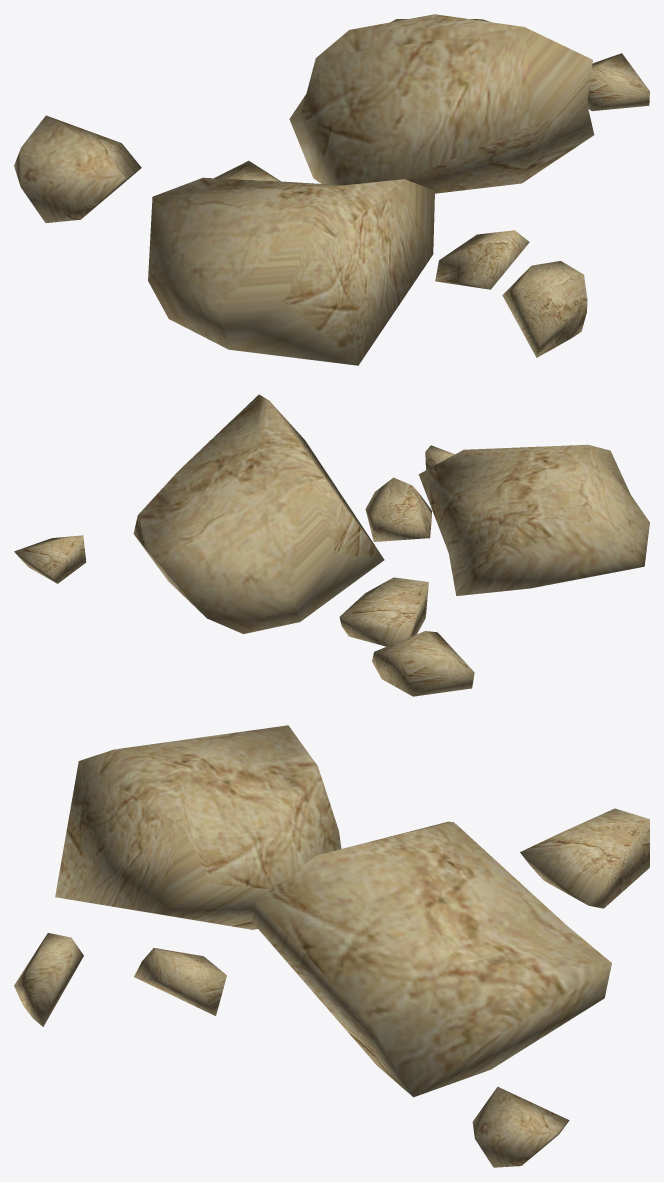
The model's file is S_Rock_Yellow059.FBX.
3 views of the same model, one above another, from view 1: azimuth 30°, elevation 25°; view 2: azimuth 150°, elevation 25°; view 3: azimuth 270°, elevation 25° (orthographic). The views are drawn at different scales.
Visible parts, largest first — view 1: S_Rock_Yellow059; view 2: S_Rock_Yellow059; view 3: S_Rock_Yellow059.
Part boxes in pixels (x1,y1,x2,y2): S_Rock_Yellow059: [14, 14, 649, 365]; S_Rock_Yellow059: [14, 394, 649, 696]; S_Rock_Yellow059: [14, 725, 649, 1167].
Bounding box in the file's own units: 253 × 208 × 77.7.
